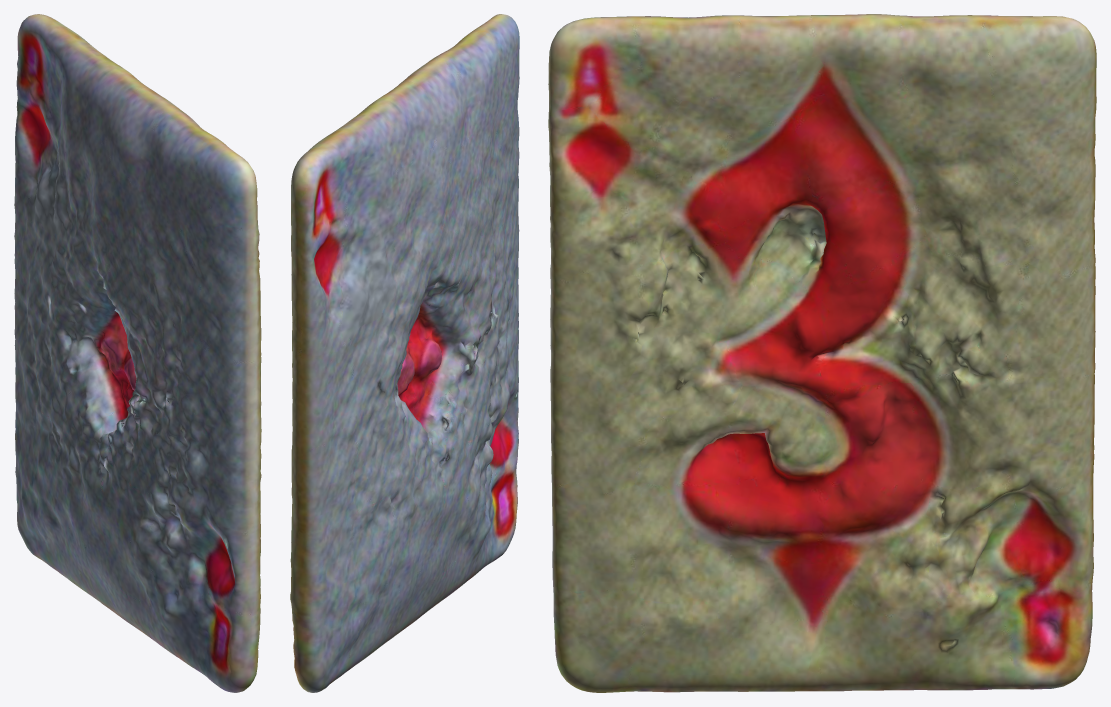
File: card_12.glb
3 renders of one model, left to right at view 1: azimuth 30°, elevation 25°; view 2: azimuth 150°, elevation 25°; view 3: azimuth 270°, elevation 25°, orthographic. The views are drawn at different scales.
Parts seen in each view (by area): view 1: Mesh1; view 2: Mesh1; view 3: Mesh1.
Boxes of the visible parts, <box> form: Mesh1: <box>14,14,261,692</box>; Mesh1: <box>290,14,519,692</box>; Mesh1: <box>548,14,1096,692</box>.
Bounding box in the file's own units: 0.162 × 1.2 × 0.887.
Materials: 1 (1 with a texture image).
